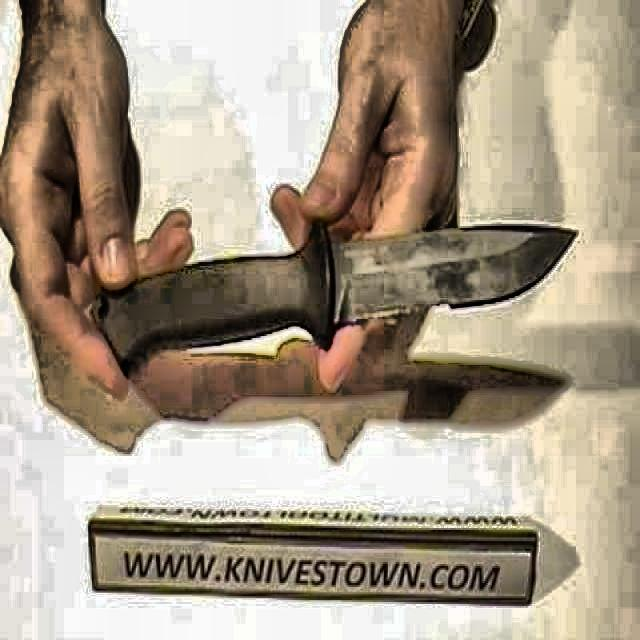knife: (92, 220, 578, 372)
